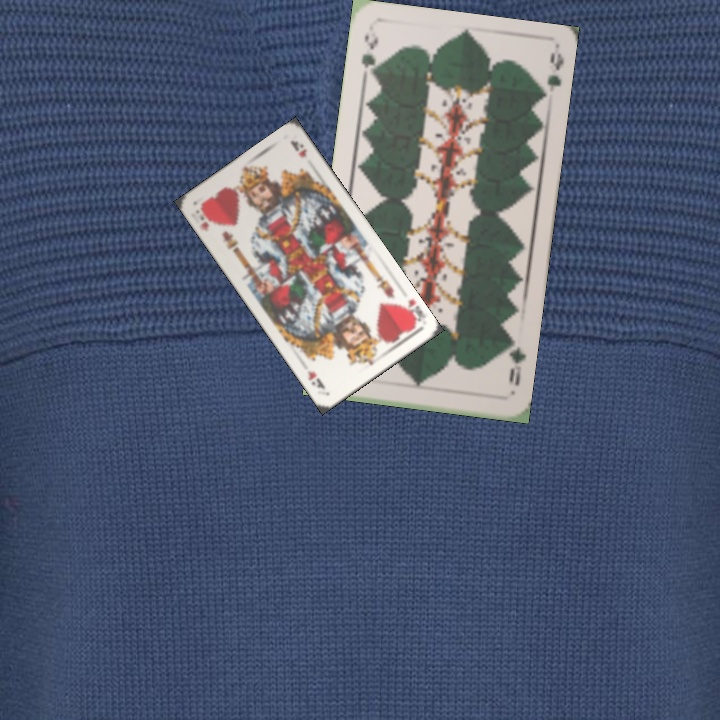G9: (502, 335, 529, 389), (357, 26, 381, 84)
HK: (396, 295, 428, 329), (191, 201, 218, 234)
